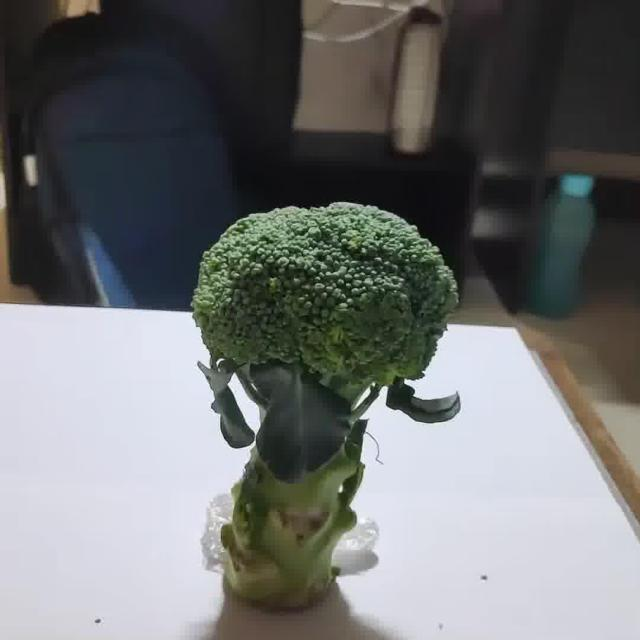Broccoli: (191, 202, 459, 611)
